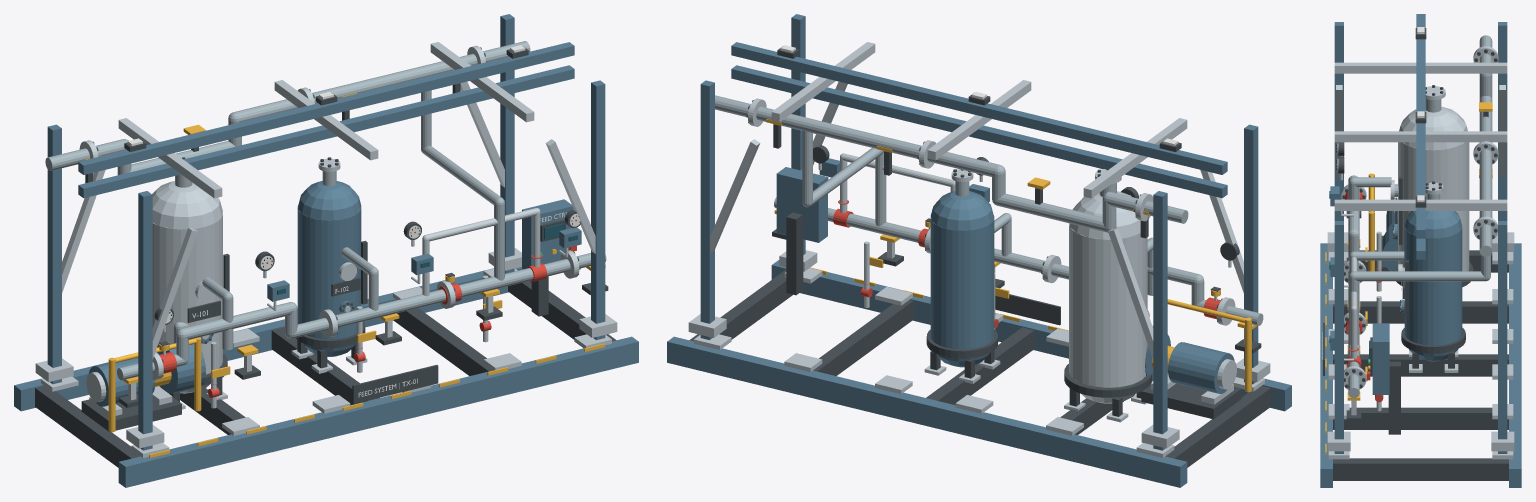
The model's file is feed-system.glb.
3 views of the same model, side by side, from view 1: azimuth 30°, elevation 25°; view 2: azimuth 150°, elevation 25°; view 3: azimuth 270°, elevation 25° (orthographic). The views are drawn at different scales.
Visible parts, largest first — view 1: Skid longitudinal -0.9, Rack crossbeam 2.7, Rack crossbeam 2.48, F-102 Secondary Filter shell, V-101 Primary Separator shell, Rack upright -2.25 -0.78, Rack upright 2.25 -0.78, Rack upright -2.25 0.78, P-102 Front Manifold 5, Skid longitudinal 0.9, Skid crossbeam -2.35, P-101 Elevated Header 5 (+25 smaller); view 2: Skid longitudinal 0.9, V-101 Primary Separator shell, F-102 Secondary Filter shell, Rack crossbeam 2.7, Rack crossbeam 2.48, Skid longitudinal -0.9, Rack upright -2.25 0.78, Rack upright 2.25 0.78, P-101 Elevated Header 5, Rack upright -2.25 -0.78, Skid crossbeam -2.35, Skid crossbeam 1.2 (+26 smaller); view 3: F-102 Secondary Filter shell, Skid crossbeam 2.35, V-101 Primary Separator shell, Skid crossbeam 1.2, Skid longitudinal 0.9, Skid longitudinal -0.9, Rack upright 2.25 0.78, Rack upright 2.25 -0.78, Rack transverse beam -1.55, Rack transverse beam 0, Skid crossbeam 0, Rack transverse beam 1.55 (+36 smaller).
Part boxes in pixels (<box>): Skid longitudinal -0.9: <box>118,336,638,487</box>; Rack crossbeam 2.7: <box>78,42,574,174</box>; Rack crossbeam 2.48: <box>78,65,574,198</box>; F-102 Secondary Filter shell: <box>297,204,361,339</box>; V-101 Primary Separator shell: <box>152,211,222,374</box>; Rack upright -2.25 -0.78: <box>138,191,152,450</box>; Rack upright 2.25 -0.78: <box>591,80,605,339</box>; Rack upright -2.25 0.78: <box>47,124,61,392</box>; P-102 Front Manifold 5: <box>293,253,606,338</box>; Skid longitudinal 0.9: <box>14,267,522,411</box>; Skid crossbeam -2.35: <box>35,386,140,467</box>; P-101 Elevated Header 5: <box>234,41,530,122</box>; Skid longitudinal 0.9: <box>667,336,1187,487</box>; V-101 Primary Separator shell: <box>1069,223,1147,387</box>; F-102 Secondary Filter shell: <box>930,214,994,349</box>; Rack crossbeam 2.7: <box>731,42,1227,174</box>; Rack crossbeam 2.48: <box>731,65,1227,198</box>; Skid longitudinal -0.9: <box>771,260,1291,411</box>; Rack upright -2.25 0.78: <box>1153,191,1167,450</box>; Rack upright 2.25 0.78: <box>700,80,714,339</box>; P-101 Elevated Header 5: <box>715,95,999,176</box>; Rack upright -2.25 -0.78: <box>1244,124,1258,392</box>; Skid crossbeam -2.35: <box>1165,386,1270,467</box>; Skid crossbeam 1.2: <box>813,300,913,375</box>; F-102 Secondary Filter shell: <box>1404,226,1462,345</box>; Skid crossbeam 2.35: <box>1333,458,1508,480</box>; V-101 Primary Separator shell: <box>1398,142,1469,271</box>; Skid crossbeam 1.2: <box>1333,407,1508,429</box>; Skid longitudinal 0.9: <box>1509,243,1521,487</box>; Skid longitudinal -0.9: <box>1320,243,1332,487</box>; Rack upright 2.25 0.78: <box>1498,221,1507,453</box>; Rack upright 2.25 -0.78: <box>1334,221,1343,453</box>; Rack transverse beam -1.55: <box>1334,62,1507,73</box>; Rack transverse beam 0: <box>1334,131,1507,142</box>; Skid crossbeam 0: <box>1333,354,1508,376</box>; Rack transverse beam 1.55: <box>1334,199,1507,210</box>.
Size of the model in its own units: 5.1 by 2.75 by 1.92.
